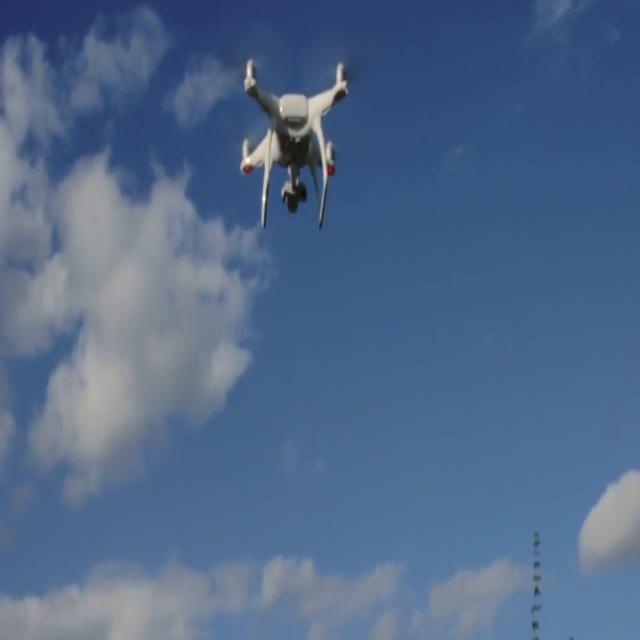drone: (241, 52, 349, 234)
